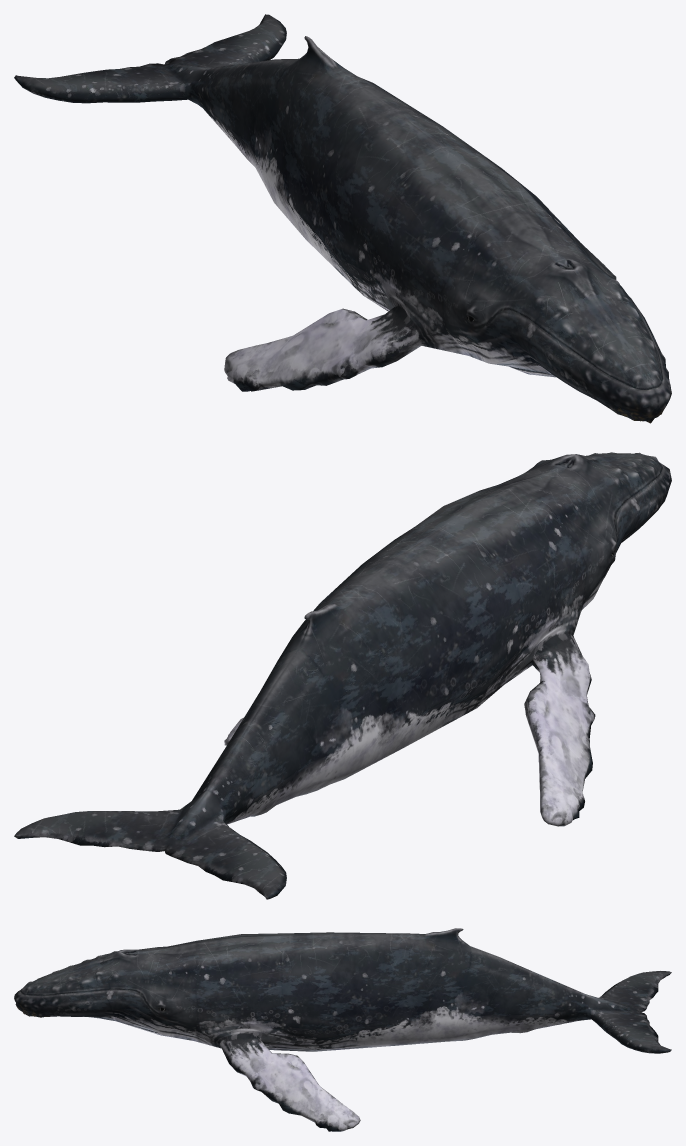
The model's file is baleianova.glb.
3 views of the same model, one above another, from view 1: azimuth 30°, elevation 25°; view 2: azimuth 150°, elevation 25°; view 3: azimuth 270°, elevation 25° (orthographic). The views are drawn at different scales.
Visible parts, largest first — view 1: Object_34; view 2: Object_34; view 3: Object_34.
Boxes of the visible parts, left/top/right/bottom form: Object_34: left=14, top=14, right=671, bottom=423; Object_34: left=14, top=452, right=671, bottom=899; Object_34: left=14, top=928, right=671, bottom=1131.
Bounding box in the file's own units: 3.8 × 2.56 × 9.94.
1 material, 1 textured.
